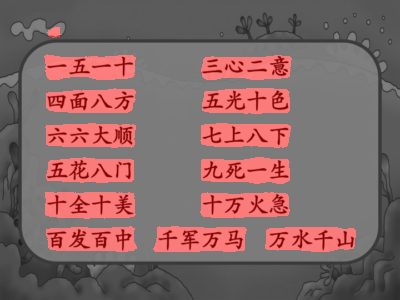text: (46, 192, 132, 216), (46, 123, 133, 146), (159, 229, 245, 252), (199, 194, 288, 216), (45, 229, 133, 251), (201, 57, 289, 79), (46, 157, 133, 179), (201, 159, 287, 181), (269, 228, 354, 249), (45, 91, 134, 111), (202, 125, 290, 145), (205, 90, 288, 110), (46, 58, 133, 76)
